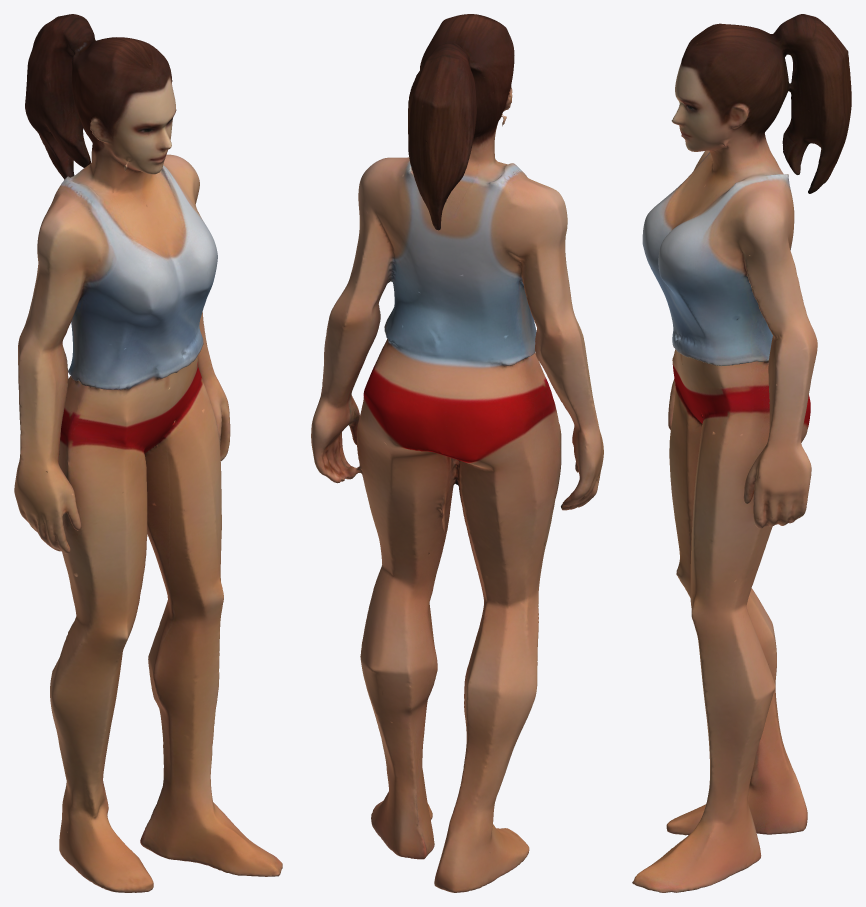
Rendered from female.fbx.
3 renders of one model, left to right at view 1: azimuth 30°, elevation 25°; view 2: azimuth 150°, elevation 25°; view 3: azimuth 270°, elevation 25°, orthographic. The views are drawn at different scales.
Visible parts, largest first — view 1: Mesh_0; view 2: Mesh_0; view 3: Mesh_0.
Part boxes in pixels (left/top/right/bottom): Mesh_0: left=14, top=14, right=282, bottom=892; Mesh_0: left=311, top=14, right=603, bottom=892; Mesh_0: left=632, top=14, right=851, bottom=892.
Size of the model in its own units: 60.31 by 200 by 48.98.
Materials: 1 (1 with a texture image).
